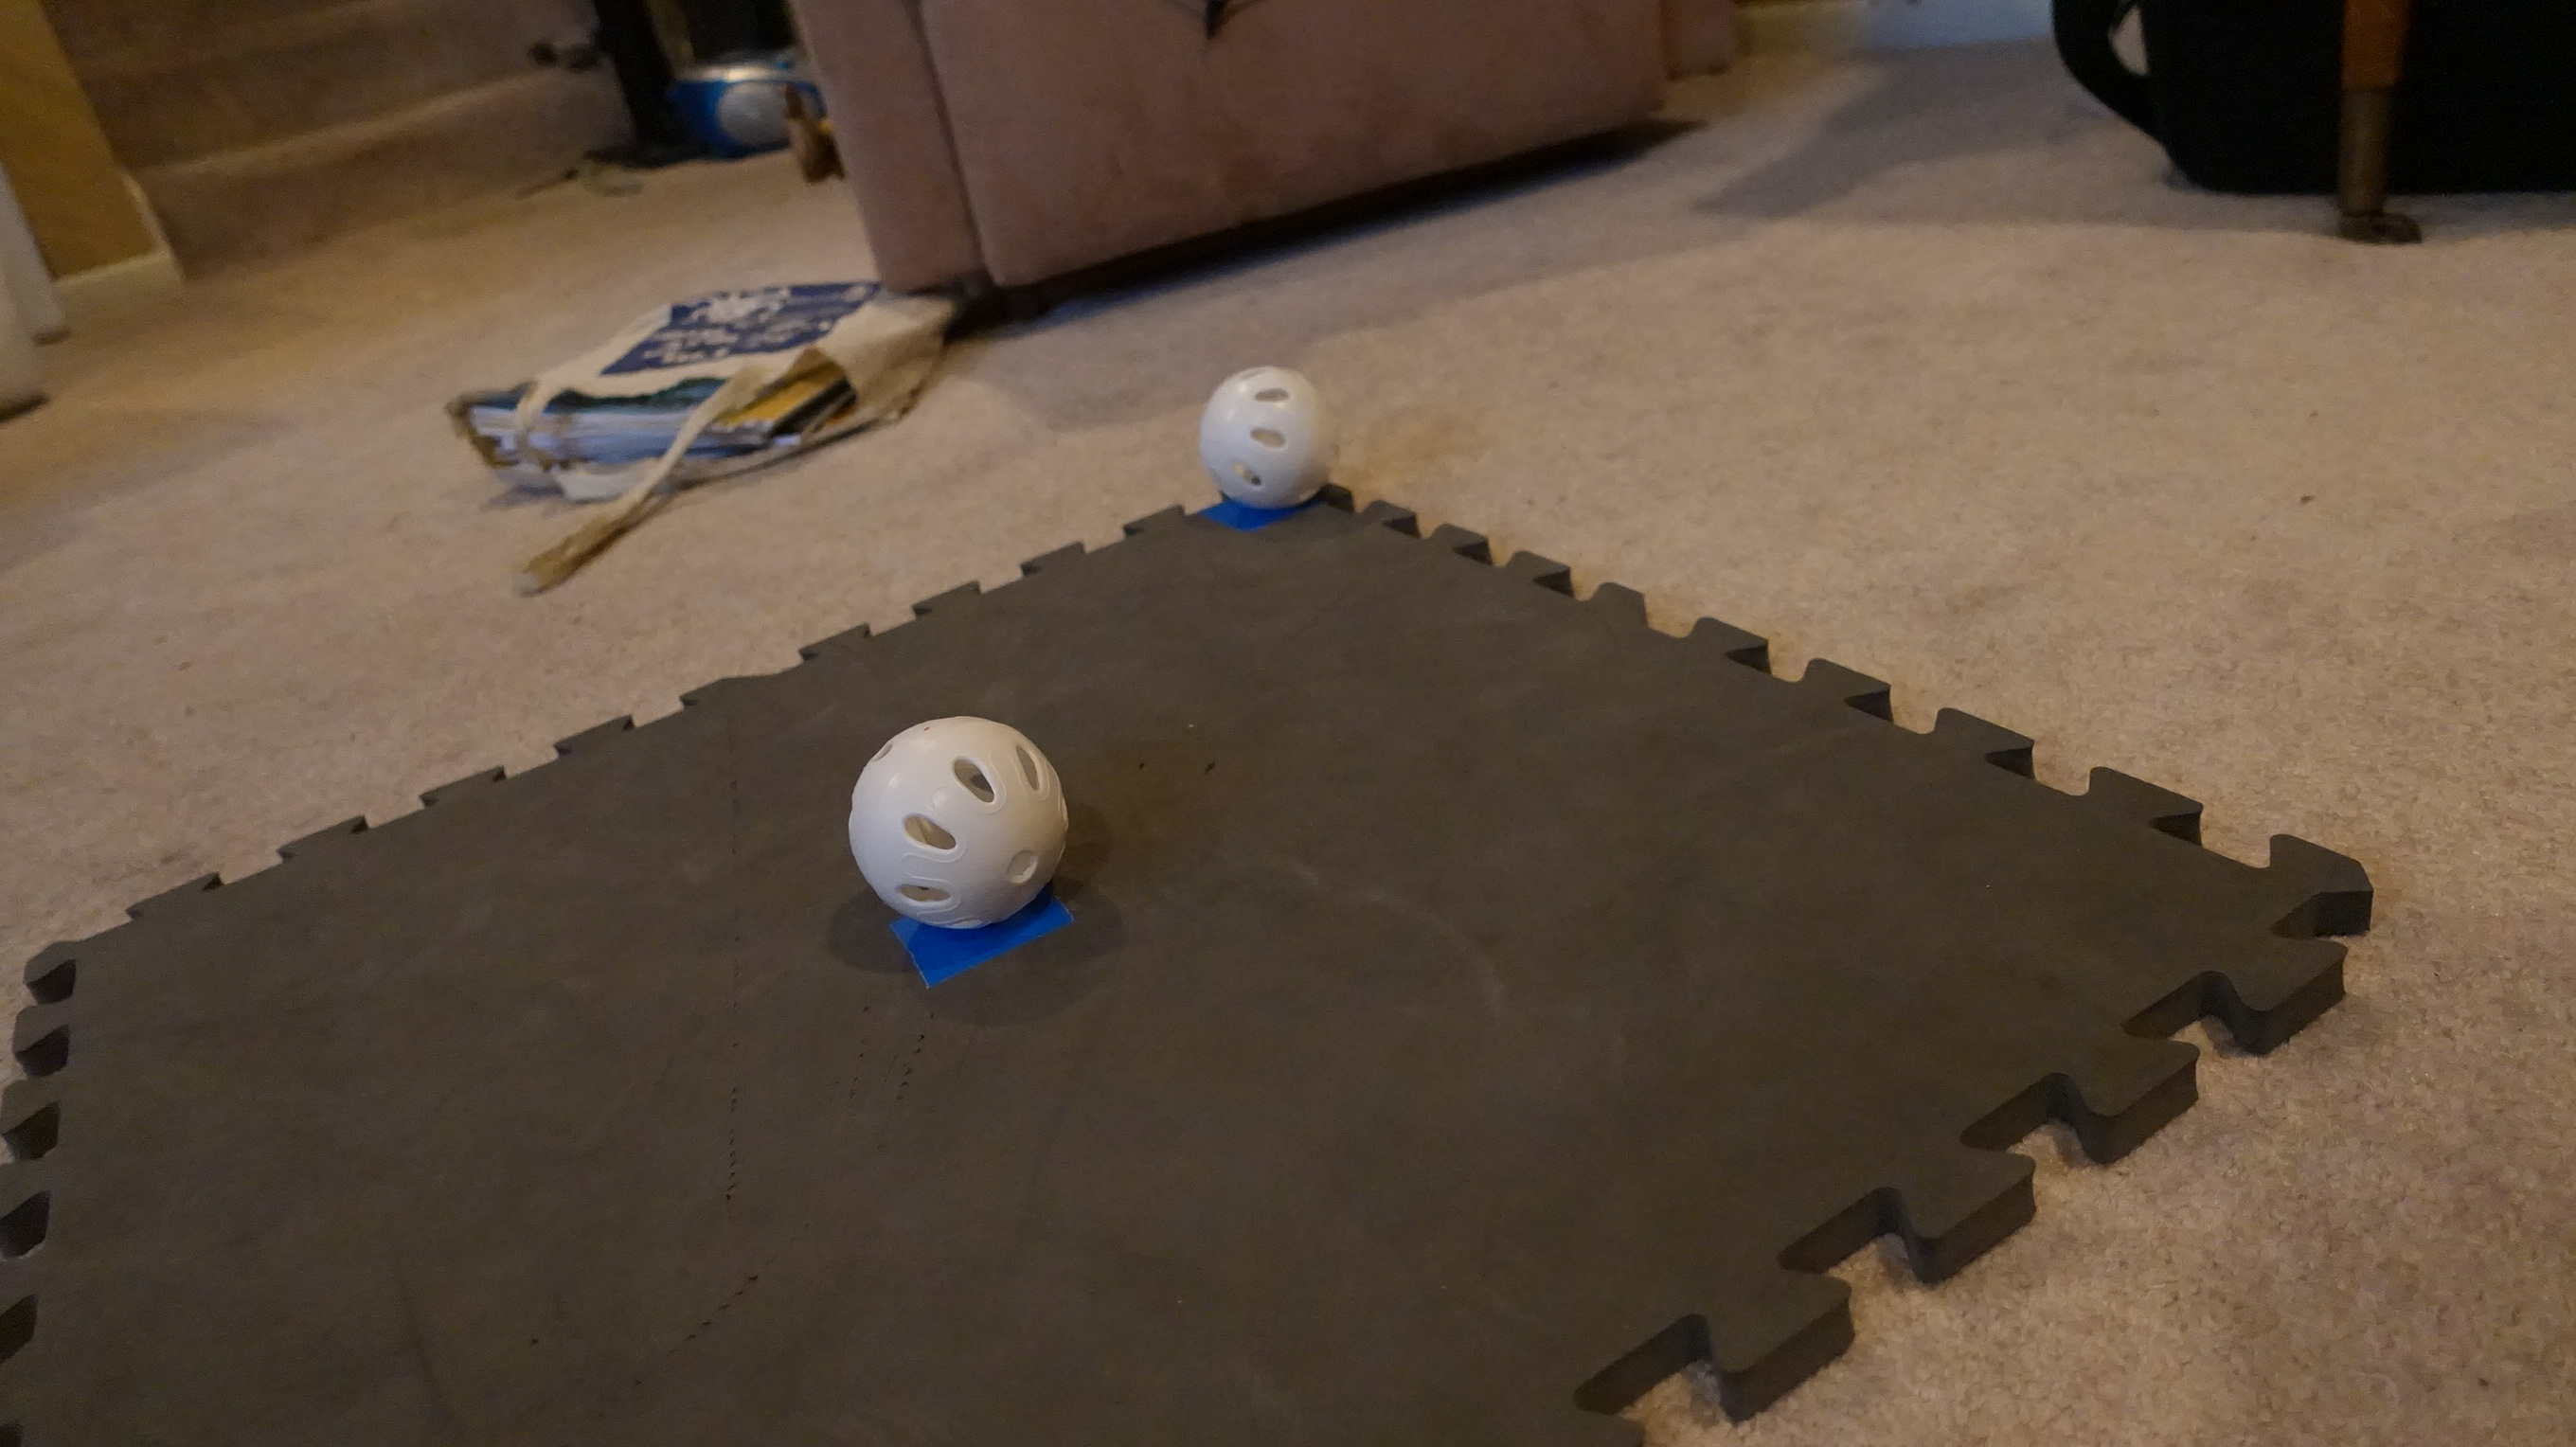silver: (837, 718, 1076, 936), (1200, 364, 1346, 517)
